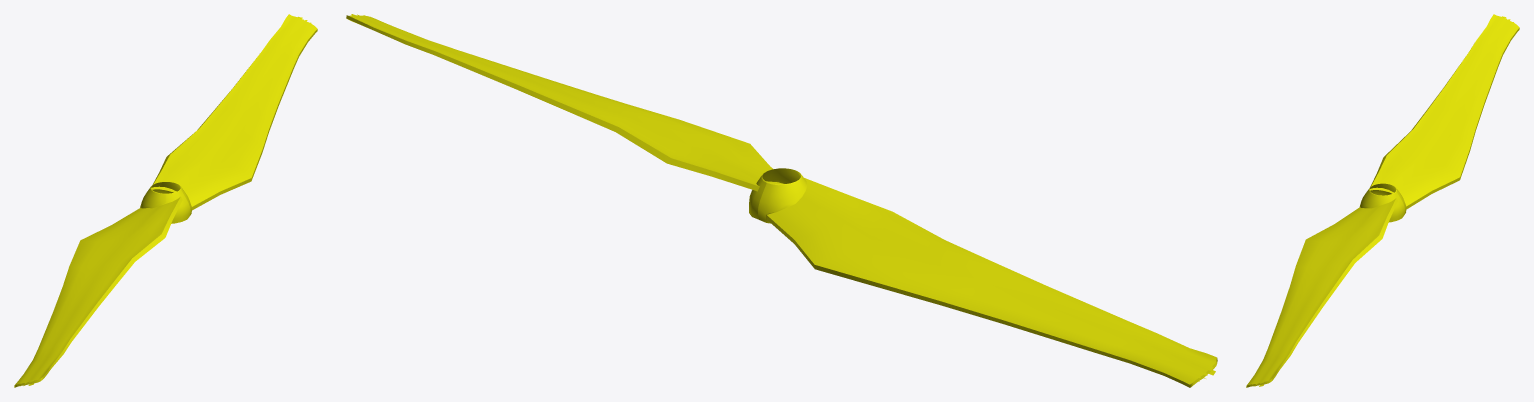
The model's file is propeller_6.fbx.
3 views of the same model, side by side, from view 1: azimuth 90°, elevation 25°; view 2: azimuth 150°, elevation 25°; view 3: azimuth 270°, elevation 25° (orthographic). The views are drawn at different scales.
Visible parts, largest first — view 1: polySurface14; view 2: polySurface14; view 3: polySurface14.
Boxes of the visible parts, x1,y1,x2,y2 form: polySurface14: [14, 14, 317, 387]; polySurface14: [346, 14, 1217, 387]; polySurface14: [1246, 14, 1519, 387].
Size of the model in its own units: 17.81 by 0.746 by 5.89.
